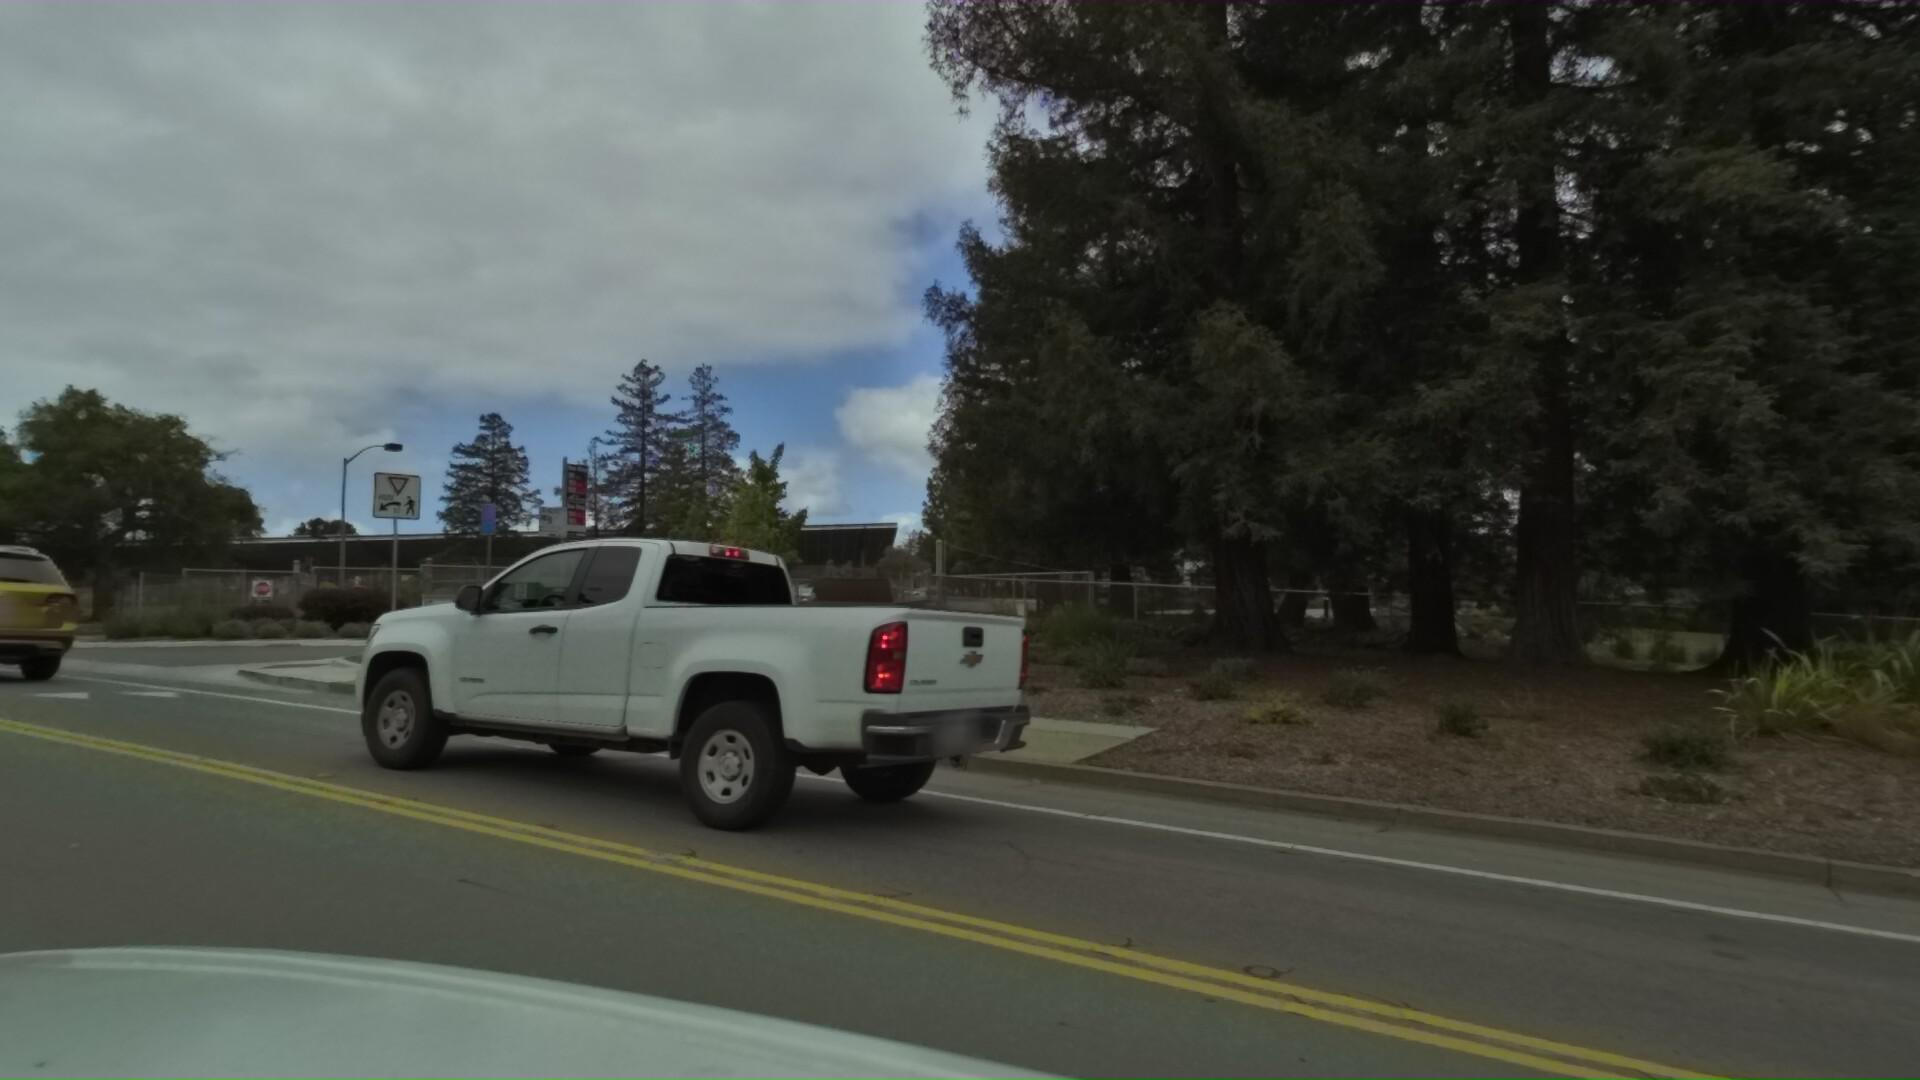car: (256, 520, 944, 843), (0, 531, 69, 684)
